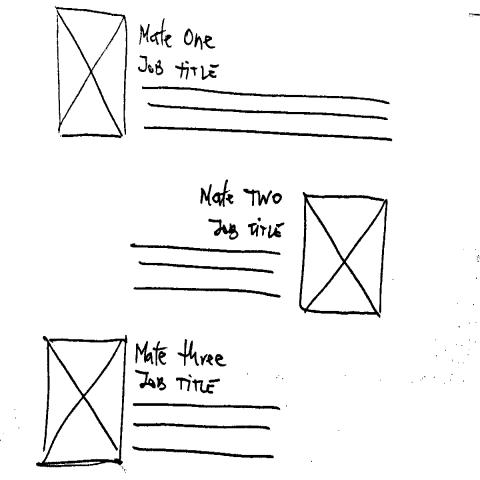Heading: (174, 374, 223, 396), (175, 59, 221, 81), (246, 218, 286, 241)
Image: (35, 332, 130, 471), (299, 187, 390, 320), (55, 3, 130, 141)
Paragraph: (140, 82, 395, 147), (130, 398, 283, 463), (128, 241, 285, 300)
